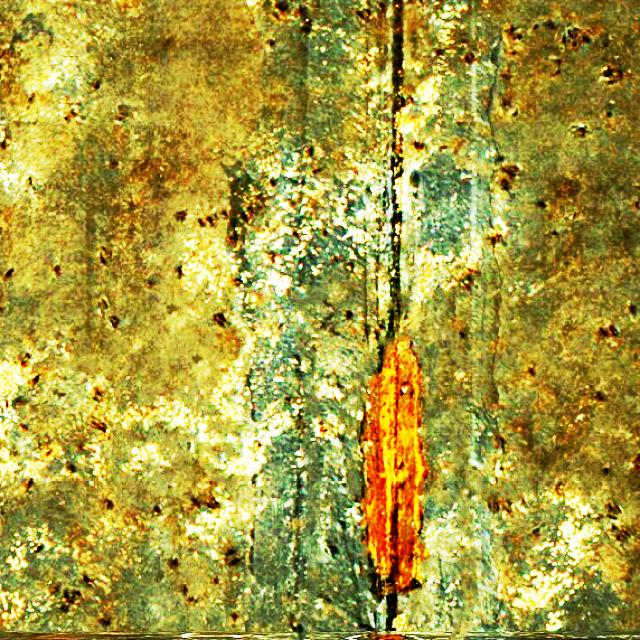Corrosion: (364, 344, 427, 594)
